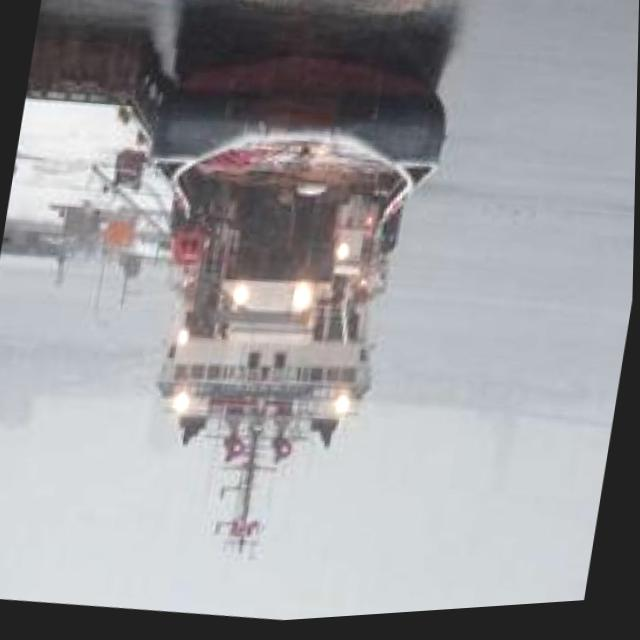ship2: (153, 55, 448, 561)
